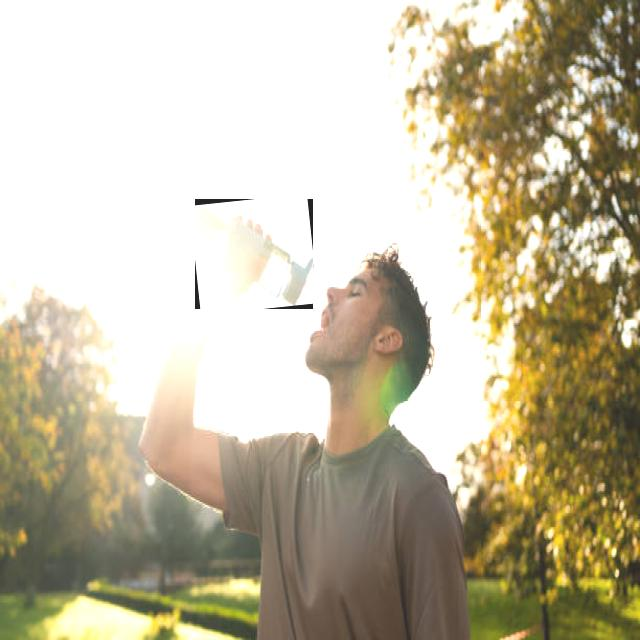Bottle: (196, 200, 313, 309)
